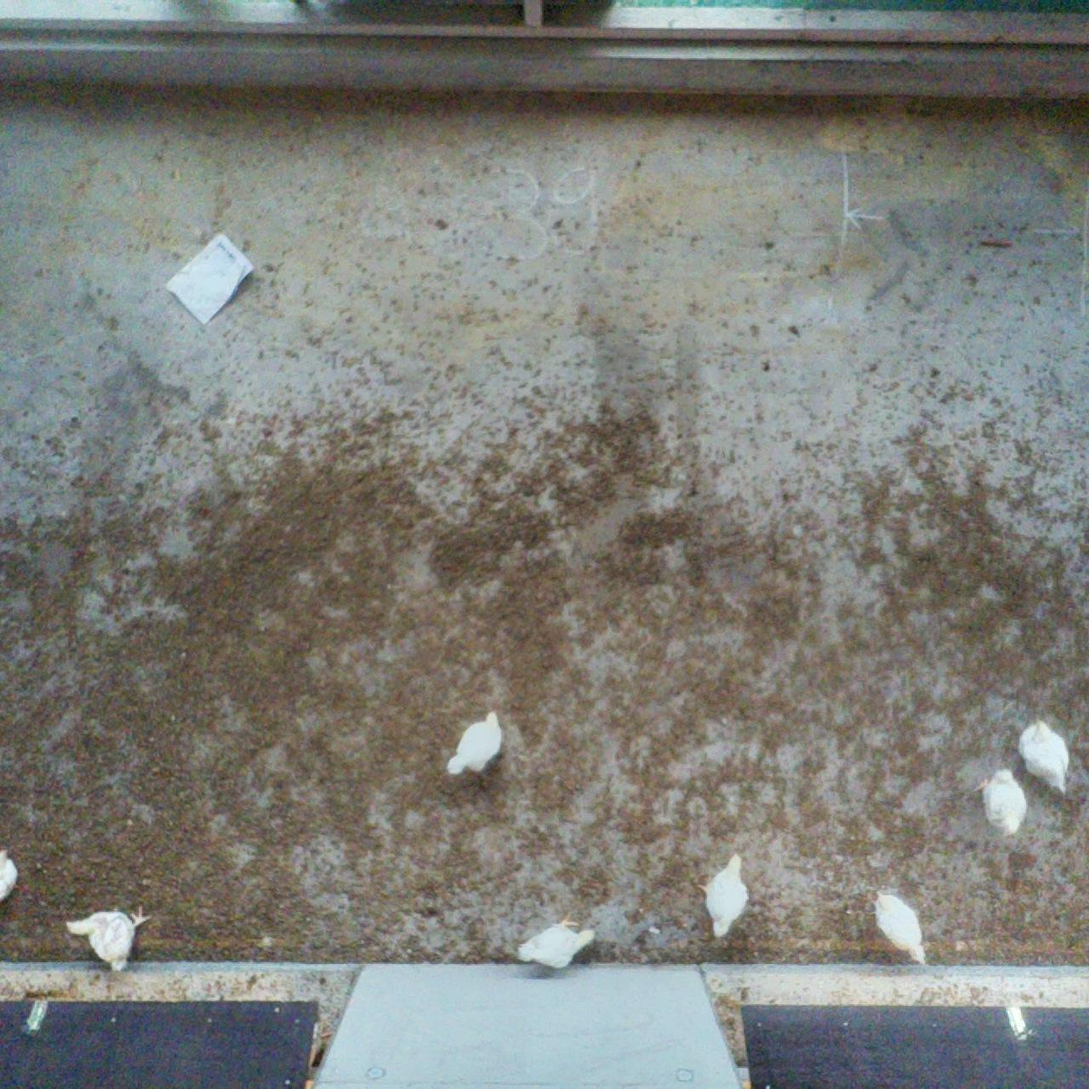chicken: (69, 903, 160, 974), (1016, 707, 1078, 800), (443, 706, 513, 787), (700, 843, 750, 944), (869, 886, 931, 963), (511, 926, 602, 971), (985, 768, 1027, 837), (0, 853, 20, 903)
